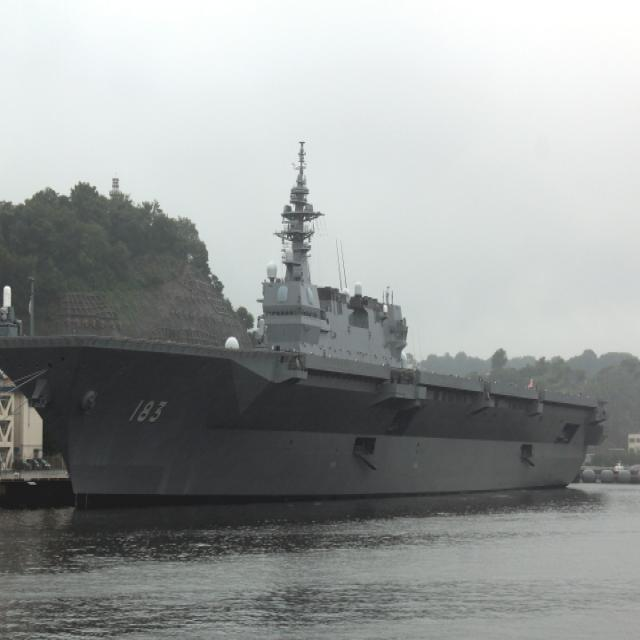Portanaves: (1, 129, 615, 518)
